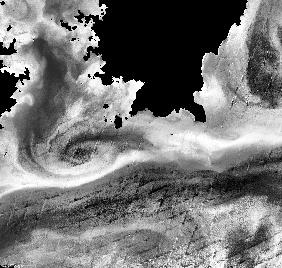CE: (48, 123, 101, 175)
